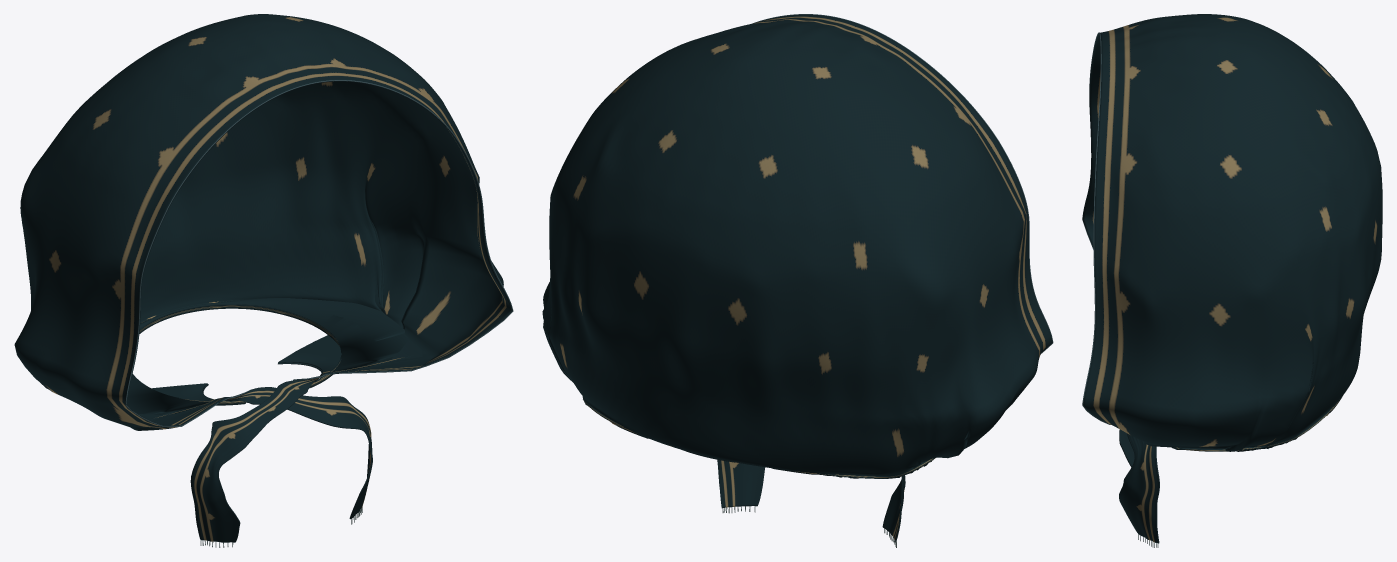
File: Feminine-curls-triangle-pashmina249-headgear.glb
3 renders of one model, left to right at view 1: azimuth 30°, elevation 25°; view 2: azimuth 150°, elevation 25°; view 3: azimuth 270°, elevation 25°, orthographic. The views are drawn at different scales.
Visible parts, largest first — view 1: 226 headgear / Headwear / continuous woven pashmina239, 226 headgear / Headwear / face edge239; view 2: 226 headgear / Headwear / continuous woven pashmina239, 226 headgear / Headwear / face edge239; view 3: 226 headgear / Headwear / continuous woven pashmina239, 226 headgear / Headwear / face edge239.
Part boxes in pixels (x1,y1,x2,y2): 226 headgear / Headwear / continuous woven pashmina239: [14, 14, 512, 542]; 226 headgear / Headwear / face edge239: [125, 80, 513, 427]; 226 headgear / Headwear / continuous woven pashmina239: [542, 14, 1052, 541]; 226 headgear / Headwear / face edge239: [752, 14, 1053, 353]; 226 headgear / Headwear / continuous woven pashmina239: [1082, 14, 1382, 543]; 226 headgear / Headwear / face edge239: [1082, 32, 1110, 424].
Size of the model in its own units: 1.34 by 1.41 by 0.8033.
Materials: 3 (1 with a texture image).
